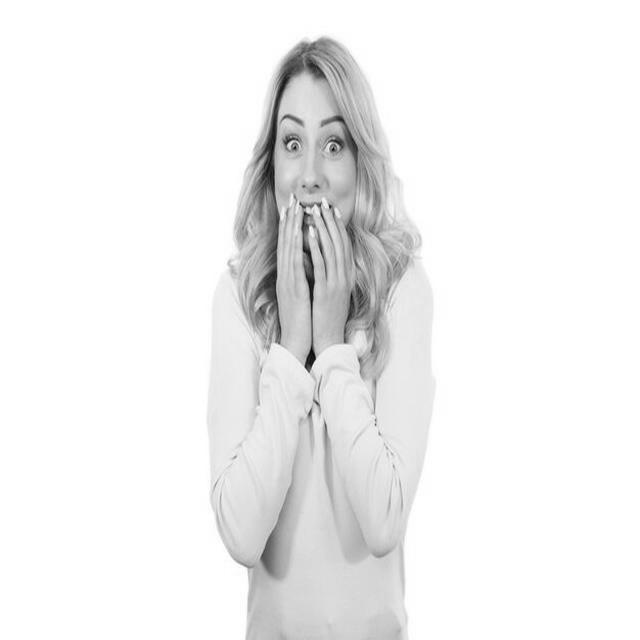Surprised: (274, 75, 357, 252)
